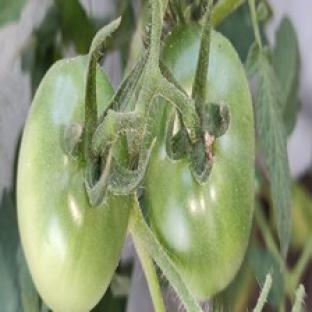Tomato: (144, 31, 254, 299), (17, 56, 132, 311)
